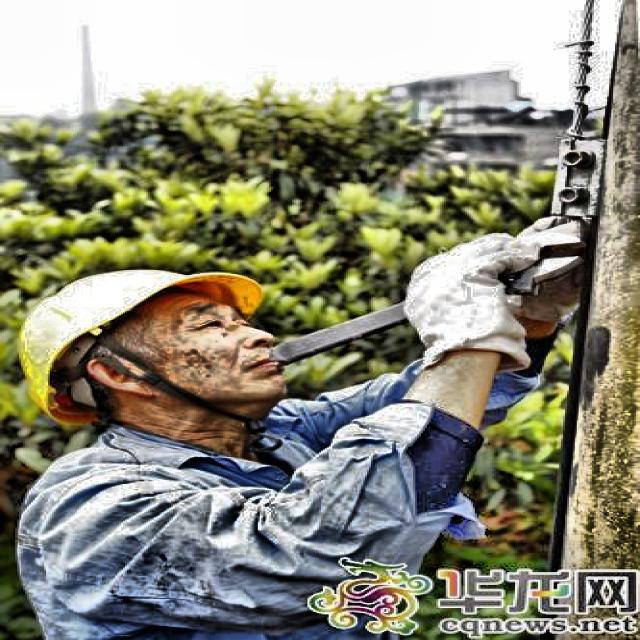helmet: (0, 244, 321, 425)
